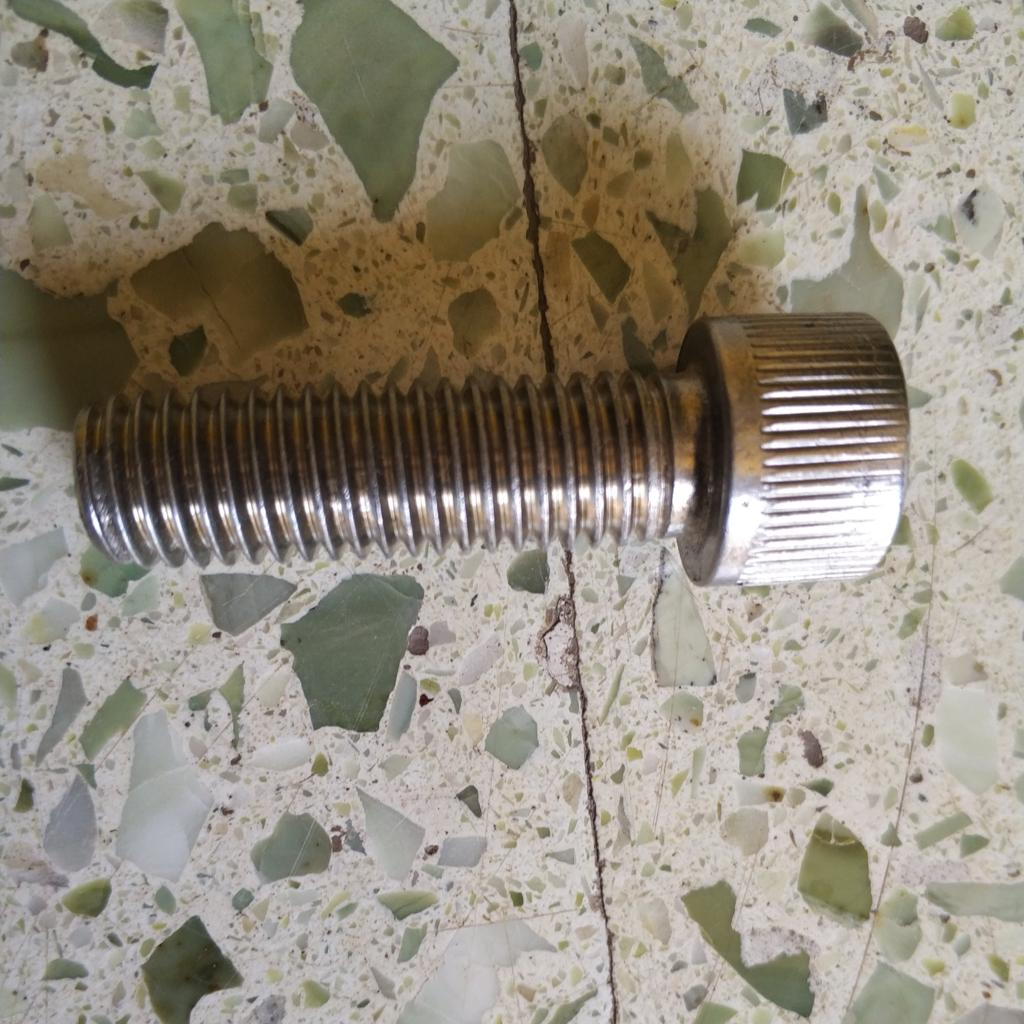screwtype1silver: (62, 297, 919, 602)
